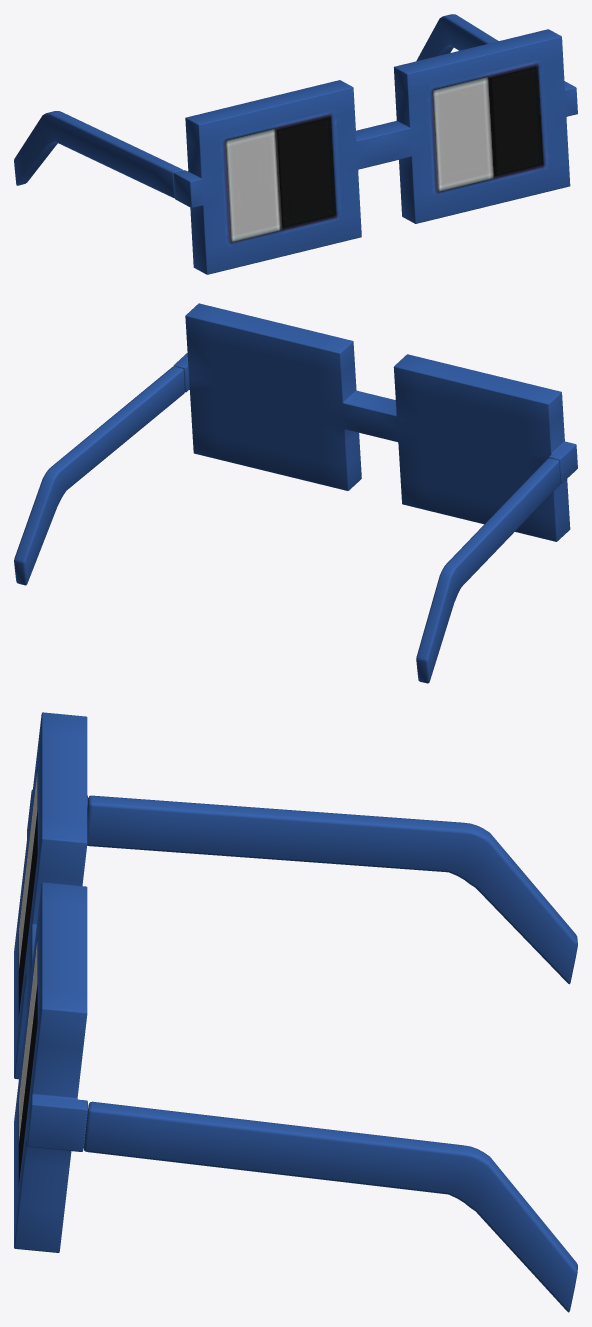
File: glasses_blue.glb
The picture shows the model from 3 angles, top to bottom: view 1: azimuth 30°, elevation 25°; view 2: azimuth 150°, elevation 25°; view 3: azimuth 270°, elevation 25°; orthographic projection. The views are drawn at different scales.
Visible parts, largest first — view 1: glasses_4; view 2: glasses_4; view 3: glasses_4.
Part boxes in pixels (x1,y1,x2,y2): glasses_4: (14, 14, 577, 274); glasses_4: (14, 303, 577, 683); glasses_4: (14, 712, 577, 1312).
Size of the model in its own units: 0.2041 by 0.0804 by 0.1441.
1 material, 1 textured.
